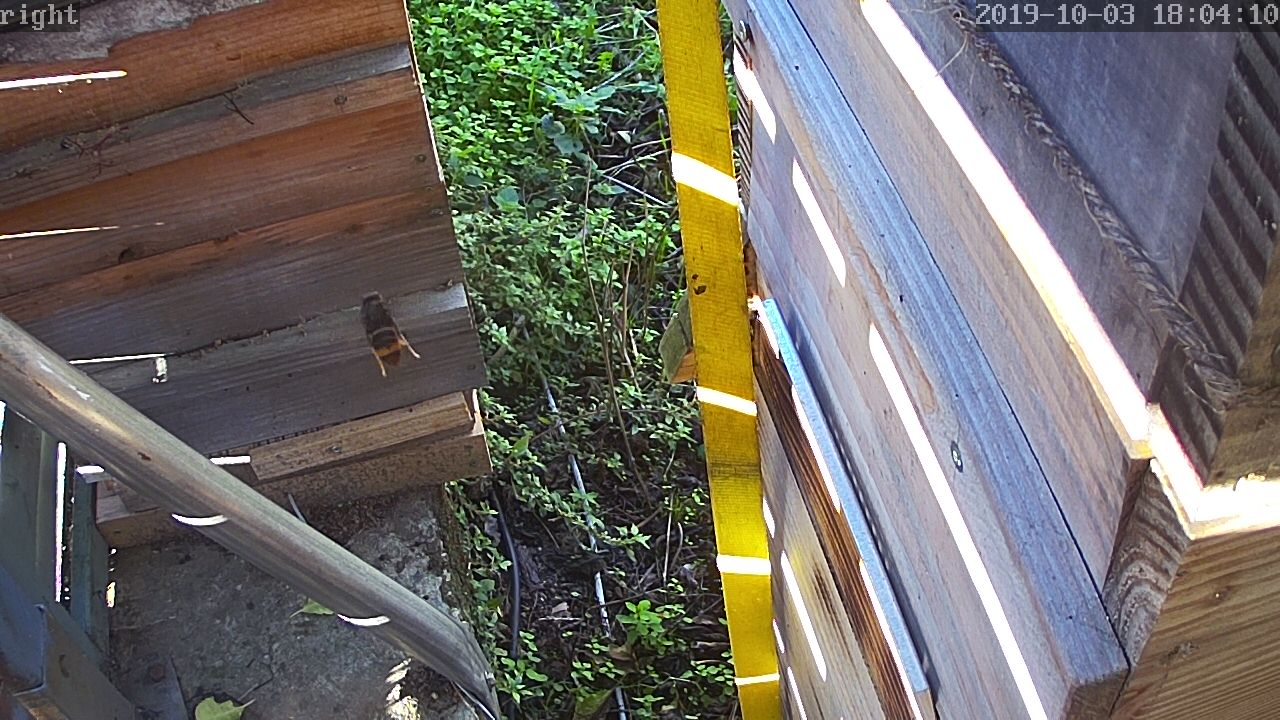hornet: (355, 285, 414, 374)
